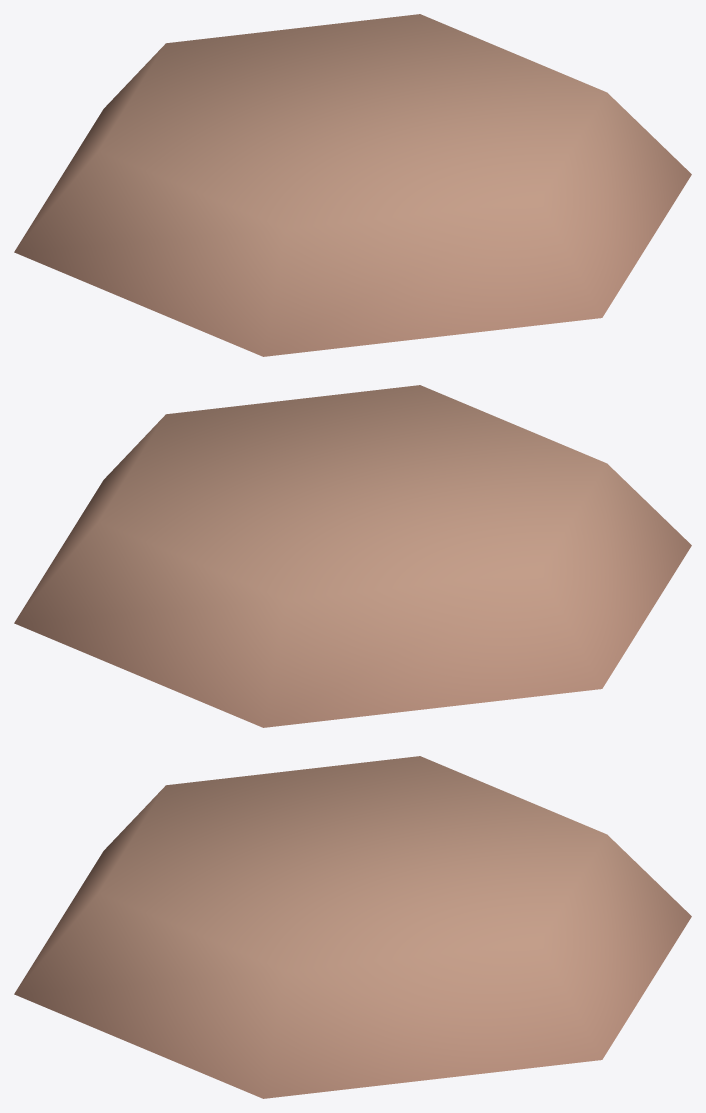
File: (%no-merge) 11.glb
3 renders of one model, top to bottom at view 1: azimuth 30°, elevation 25°; view 2: azimuth 150°, elevation 25°; view 3: azimuth 270°, elevation 25°, orthographic.
Visible parts, largest first — view 1: (%no-merge) 11; view 2: (%no-merge) 11; view 3: (%no-merge) 11.
Part boxes in pixels (x1=…): (%no-merge) 11: x1=14, y1=14, x2=691, y2=356; (%no-merge) 11: x1=14, y1=385, x2=691, y2=727; (%no-merge) 11: x1=14, y1=756, x2=691, y2=1098.
Bounding box in the file's own units: 0.1403 × 0.0209 × 0.1401.
